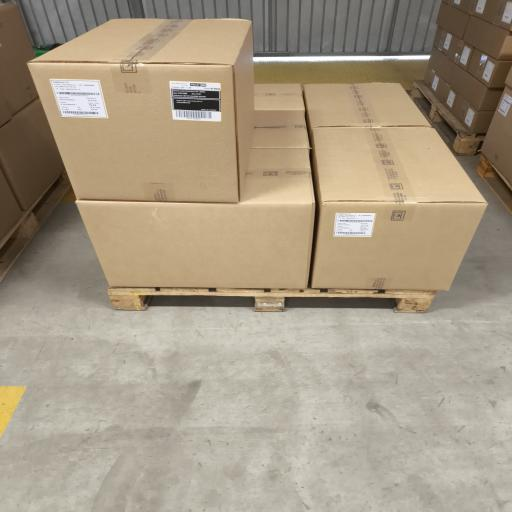pallet: (109, 288, 435, 312), (0, 173, 70, 280), (411, 81, 484, 156), (477, 156, 511, 213)
